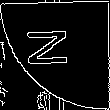N_E: (30, 35, 80, 75)
